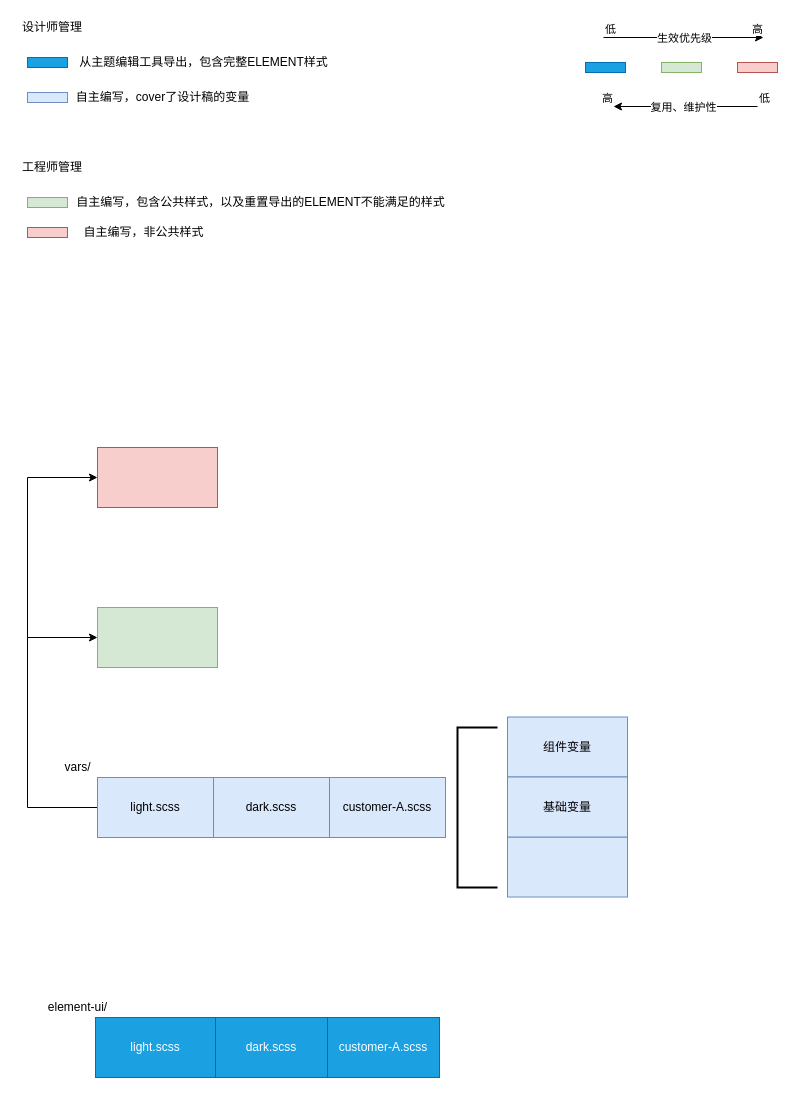
Image size: 795x1095. Some labels were removed from this diagram. Here are the shapes that lost their labels. From the top down, the centre of each, then its label:
At point (157, 477): "项目内样式".
At point (157, 637): "其他公共样式".
At point (567, 866): "风格变量".
